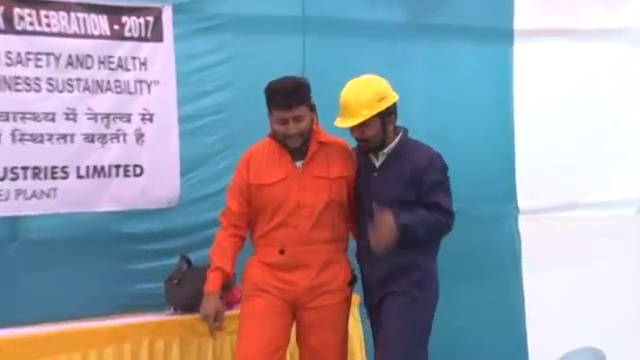helmet: (331, 72, 401, 130)
helmet_off: (262, 74, 318, 147)
helmet_on: (330, 72, 405, 153)
person: (200, 73, 354, 360), (332, 71, 457, 360)
